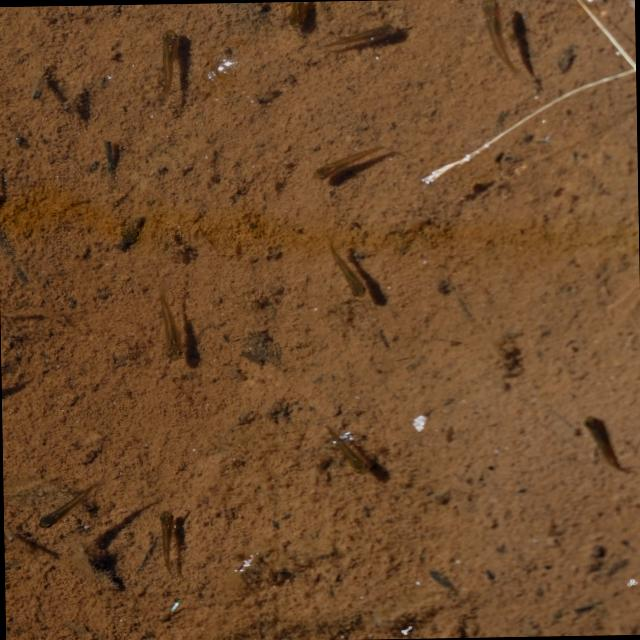Sivrisinek Baligi: (467, 0, 536, 76), (322, 15, 416, 57), (32, 478, 104, 530), (308, 137, 384, 182), (323, 416, 378, 477), (142, 26, 190, 94), (321, 244, 369, 302), (582, 416, 628, 474), (153, 283, 187, 360), (149, 497, 180, 572)
